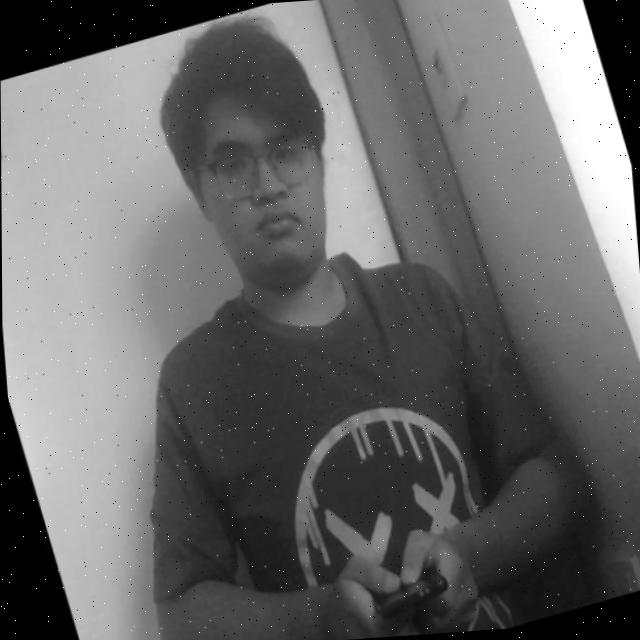phone: (347, 526, 463, 638)
